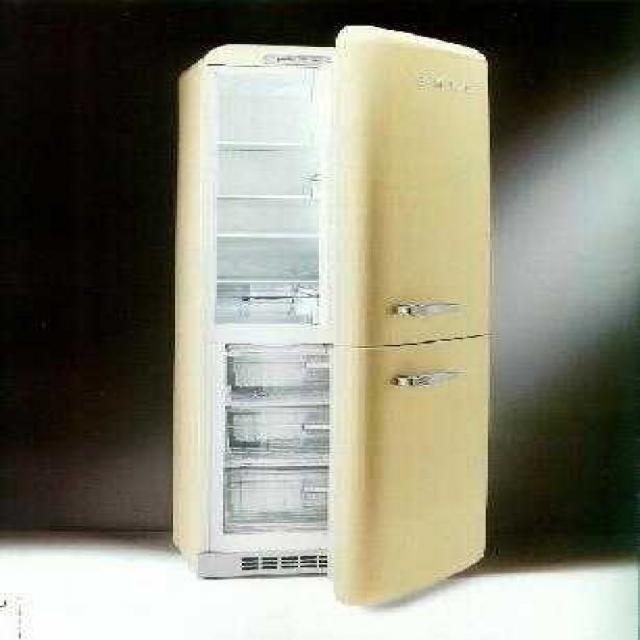refrigerator: (168, 49, 486, 569)
